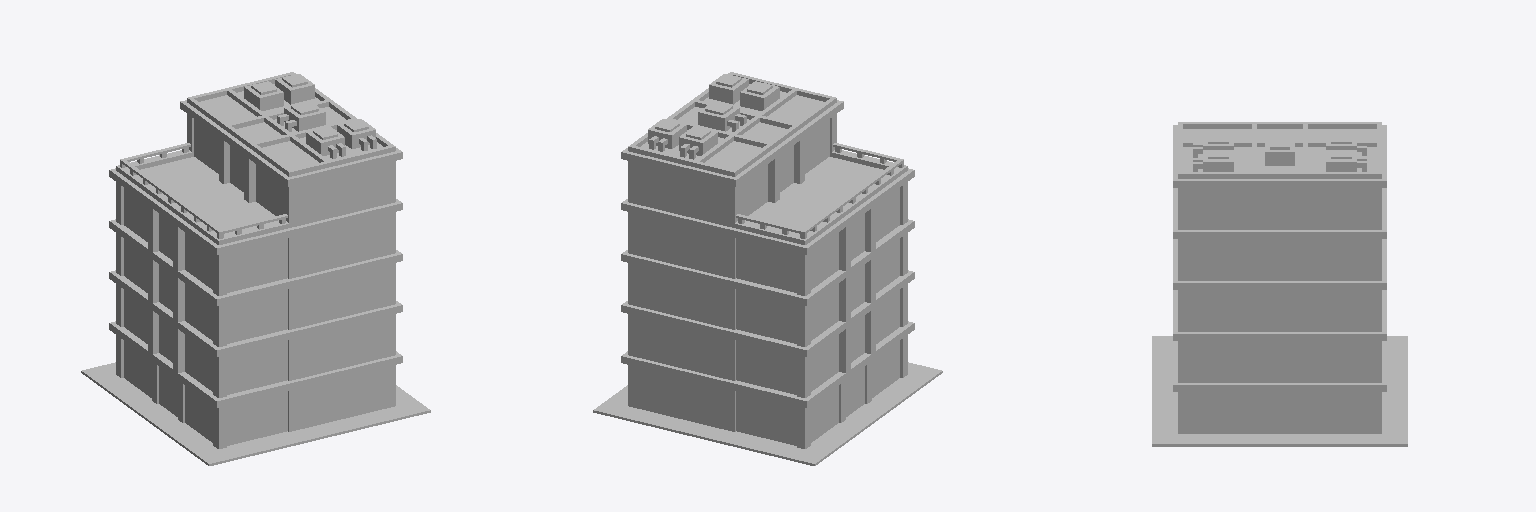
File: Home_2_2.obj
The picture shows the model from 3 angles: view 1: azimuth 30°, elevation 25°; view 2: azimuth 150°, elevation 25°; view 3: azimuth 270°, elevation 25°; orthographic projection.
Parts seen in each view (by area): view 1: object 1; view 2: object 1; view 3: object 1.
Boxes of the visible parts, <box> form: object 1: <box>81,72,430,465</box>; object 1: <box>593,72,942,465</box>; object 1: <box>1152,122,1407,446</box>.
Size of the model in its own units: 10 by 11.8 by 10.